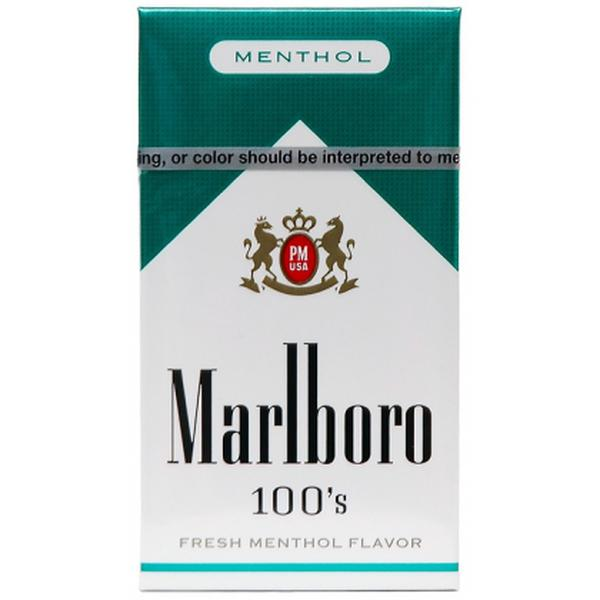marlboro_mentol: (143, 9, 462, 594)
